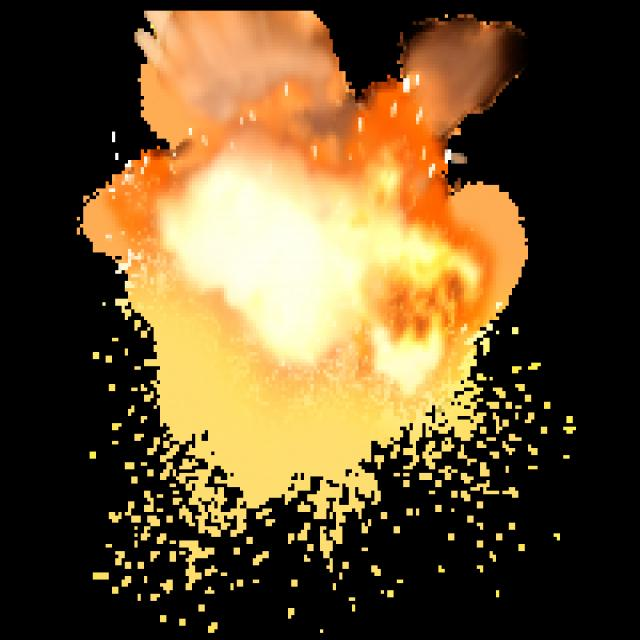fire: (37, 53, 549, 469)
